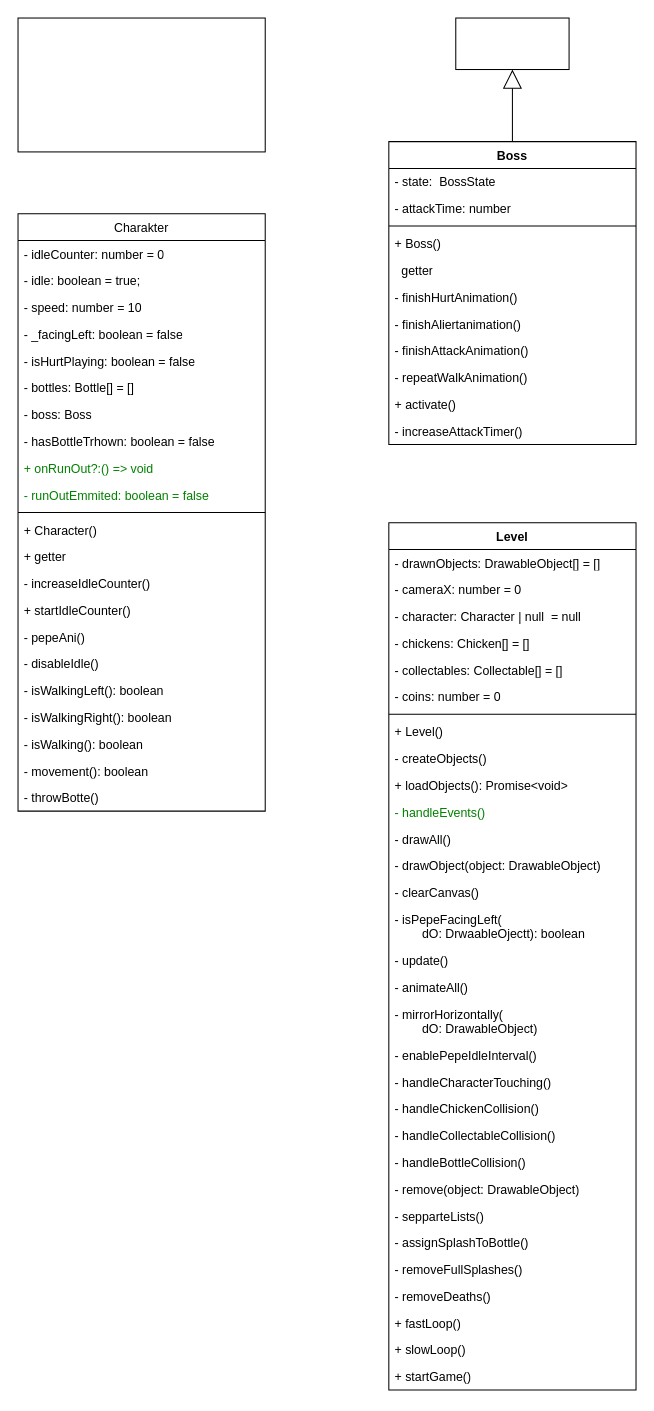
This 654x1411 diagram has some shape labels left out. The centre of each missing label's shape, as x and y in pixels:
<<Enumeration>> BossState idle, walk, alert attack, hurt: the point at 141,84
HealthyObject: the point at 512,43
